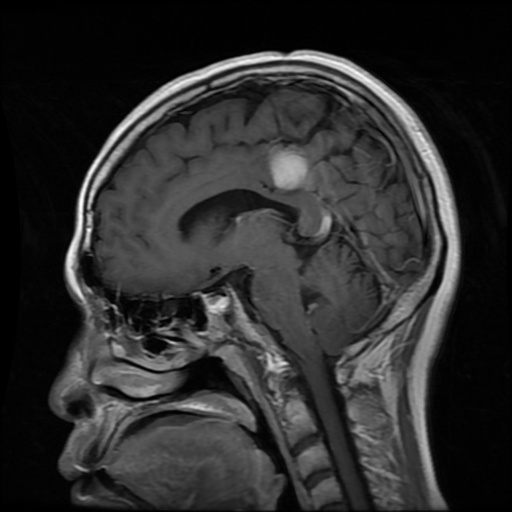meningioma: (269, 145, 308, 190)
